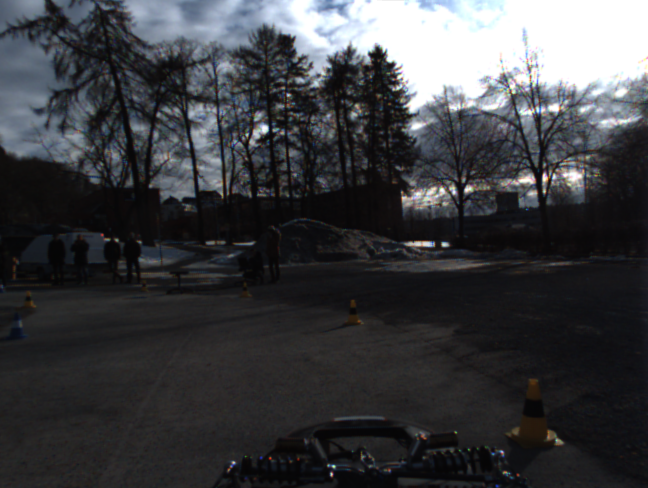cone-small-blue: (6, 311, 27, 339)
cone-small-yellow: (503, 378, 566, 449), (344, 299, 363, 326), (21, 291, 37, 308), (238, 282, 253, 299), (139, 280, 149, 293)
